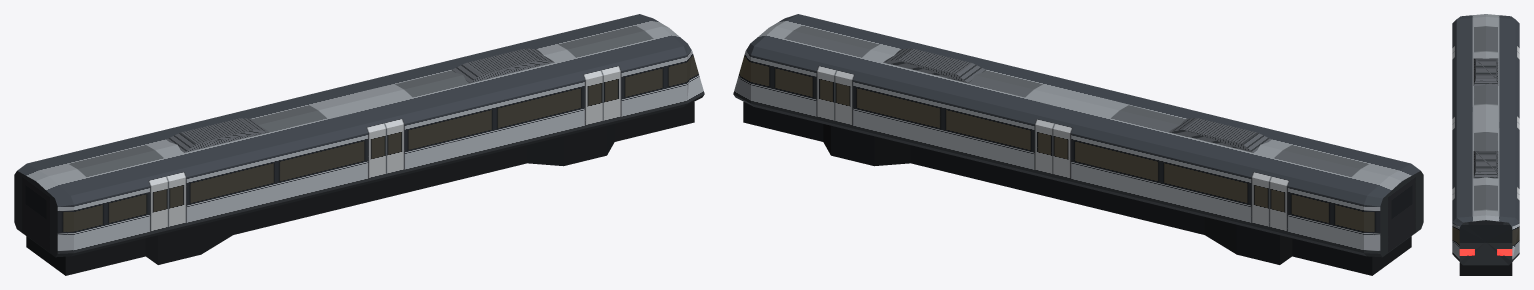
Rendered from wmata_generic__tail.glb.
3 views of the same model, side by side, from view 1: azimuth 30°, elevation 25°; view 2: azimuth 150°, elevation 25°; view 3: azimuth 270°, elevation 25° (orthographic). The views are drawn at different scales.
Parts seen in each view (by area): view 1: wmata_generic__tail; view 2: wmata_generic__tail; view 3: wmata_generic__tail.
Part boxes in pixels (<box>): wmata_generic__tail: <box>14,14,704,275</box>; wmata_generic__tail: <box>733,14,1423,275</box>; wmata_generic__tail: <box>1452,14,1519,275</box>.
Bounding box in the file's own units: 22.86 × 3.3 × 3.09.
1 material, 1 textured.
